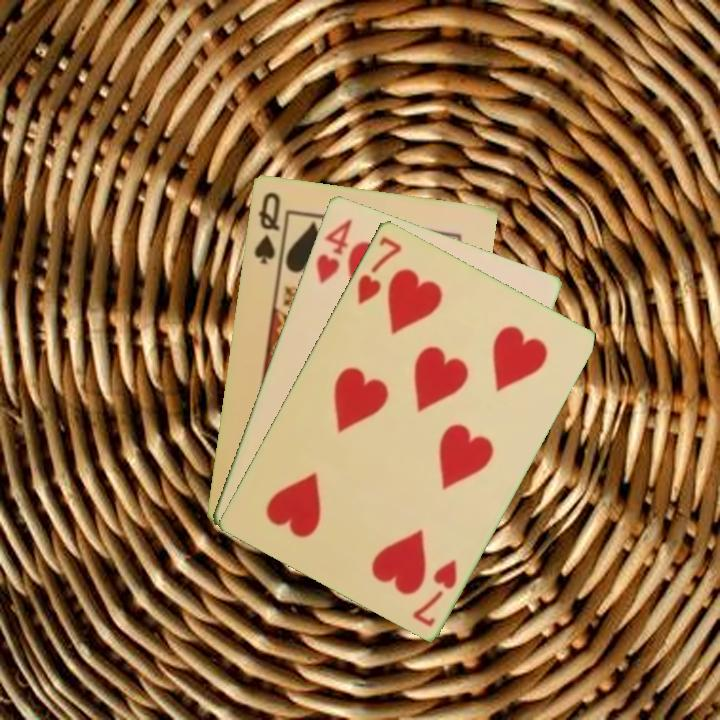4h: (312, 214, 355, 286)
7h: (353, 232, 405, 307), (409, 555, 460, 629)
Qs: (250, 188, 283, 267)
